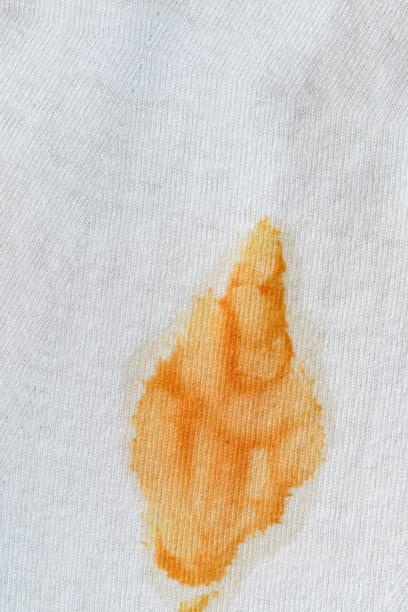stain: (128, 211, 337, 608)
